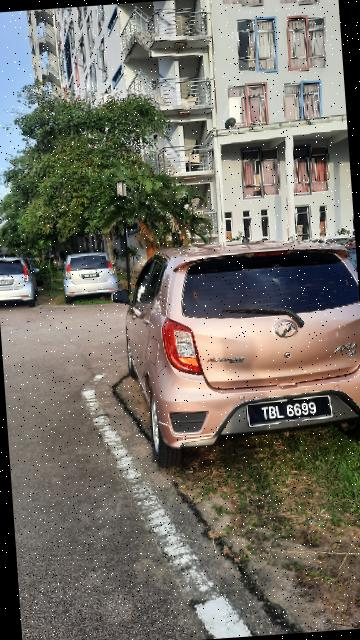License_Plate: (242, 386, 342, 435)
car: (108, 234, 360, 462)
